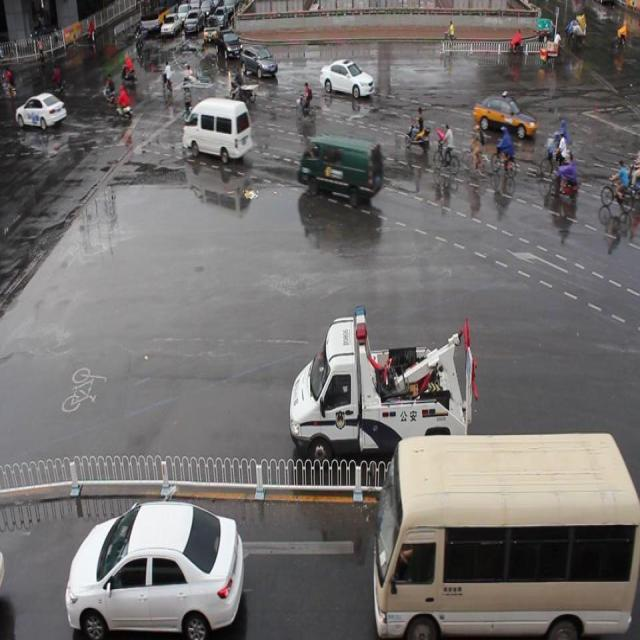bus: (289, 301, 476, 466)
car: (66, 498, 244, 640), (472, 89, 536, 140), (319, 56, 374, 102), (238, 42, 278, 79), (215, 30, 242, 62)
truck: (372, 432, 640, 640), (296, 133, 384, 207), (182, 96, 252, 164)
